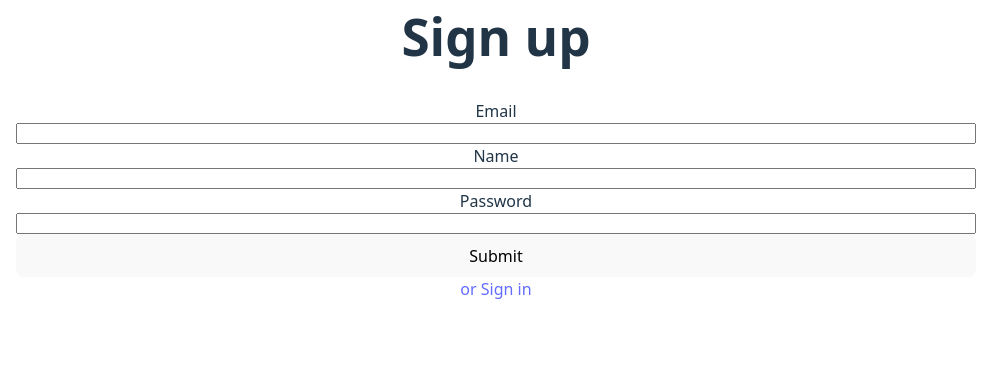
Signup › displays error message when API throws an error
Type "test@example.com" into the field labelled "Email".
click(496, 133); type("test@example.com")  # box [16,123,976,144]
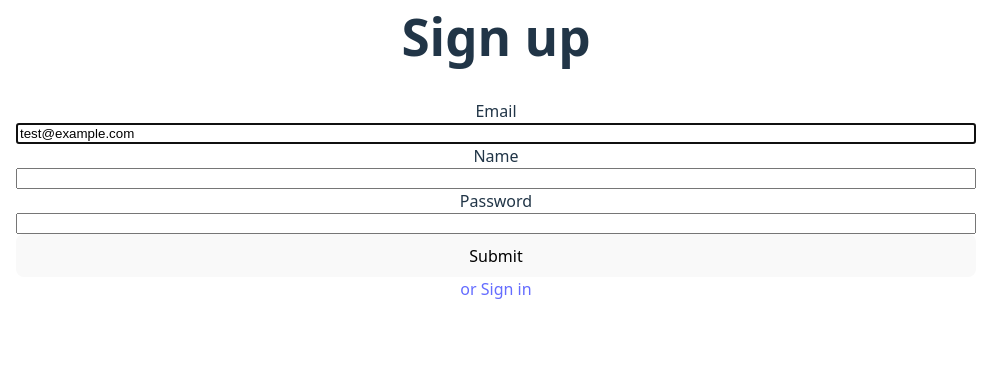
Type "John Doe" into the field labelled "Name".
click(496, 178); type("John Doe")  # box [16,168,976,189]
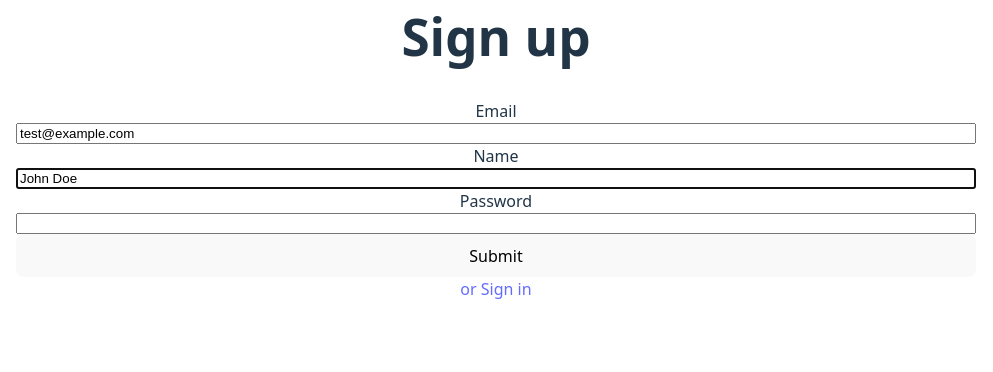
Type "password123" into the password field labelled "Password".
click(496, 223); type("password123")  # box [16,213,976,234]
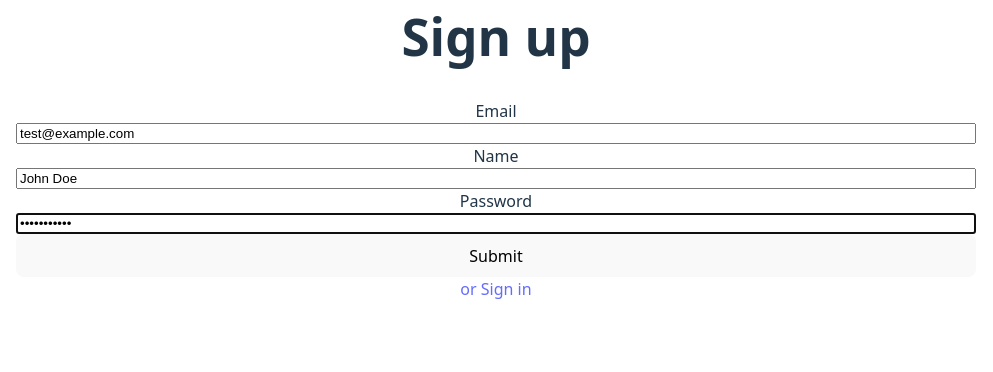
Click the button "Submit".
click(496, 256)  # box [16,234,976,277]
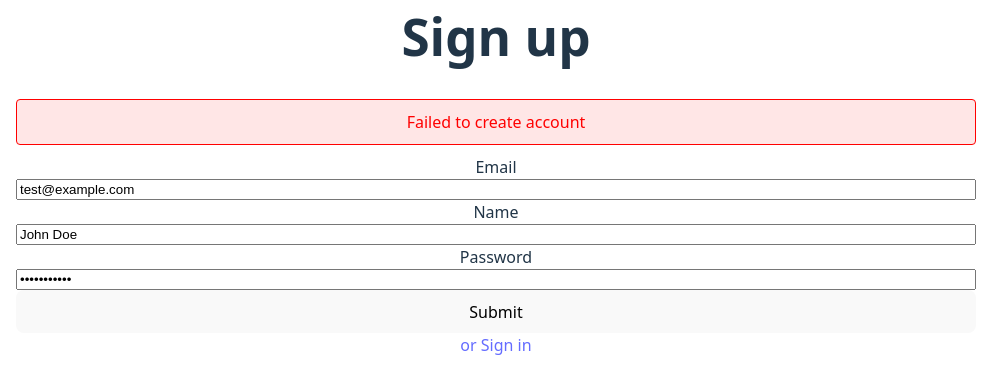
Check: the text "Failed to create account" is shown, box [16,99,976,145]
